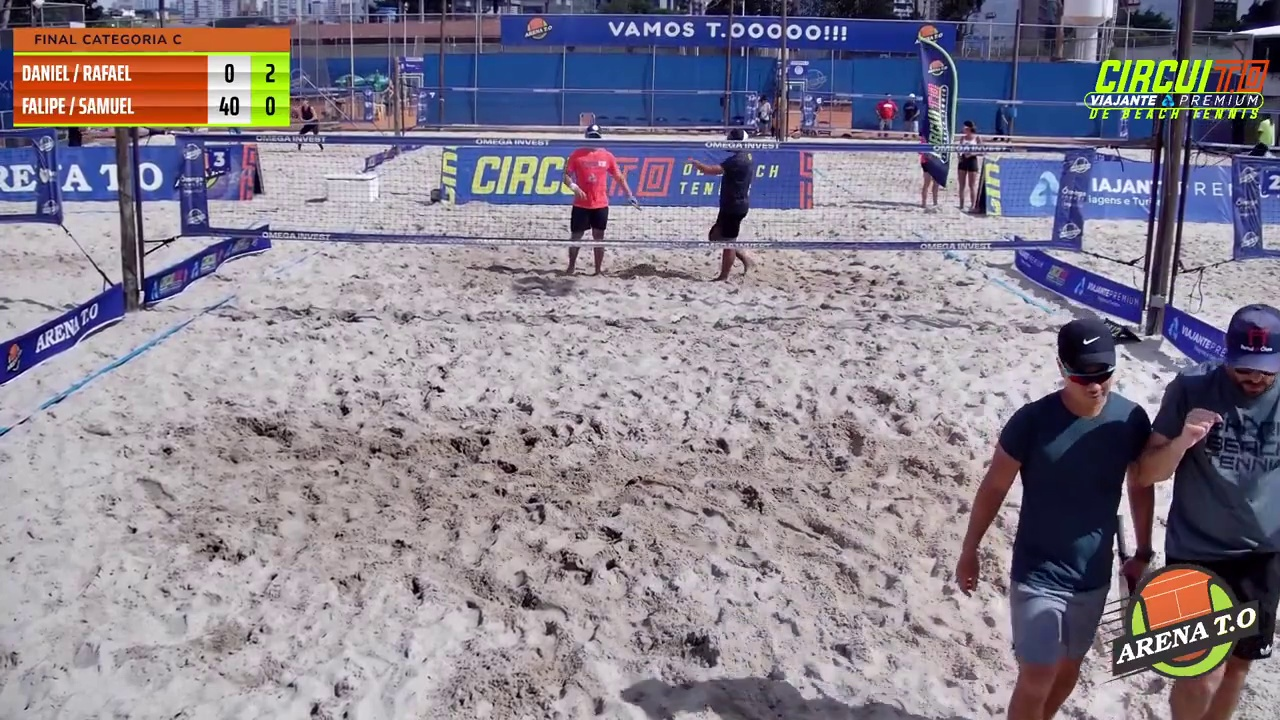court_line: (643, 0, 786, 300)
